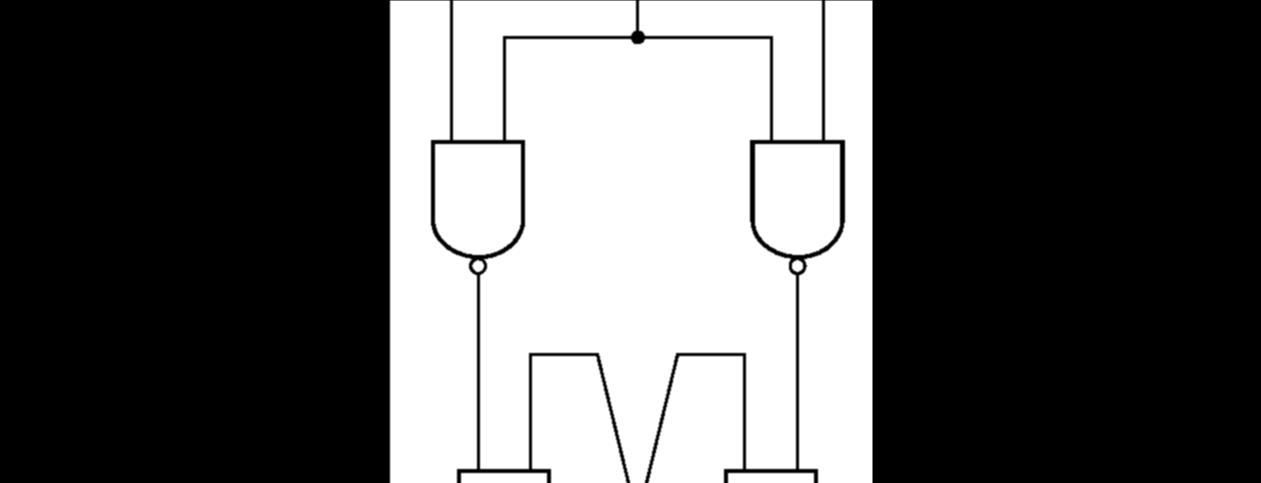nand: (739, 116, 859, 287), (420, 125, 534, 284), (447, 451, 554, 483)
